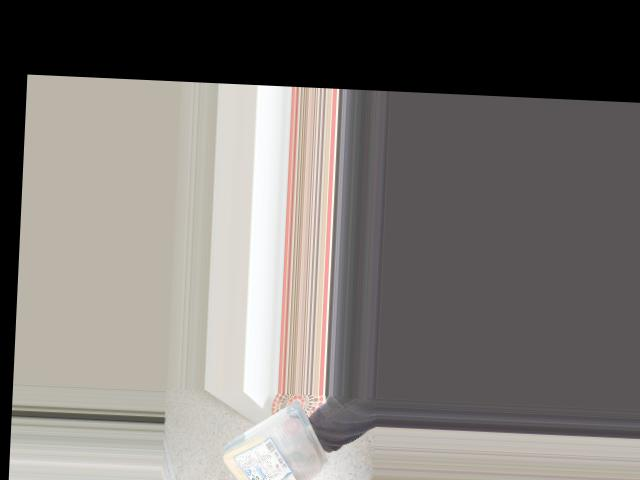cheese: (222, 412, 319, 480)
